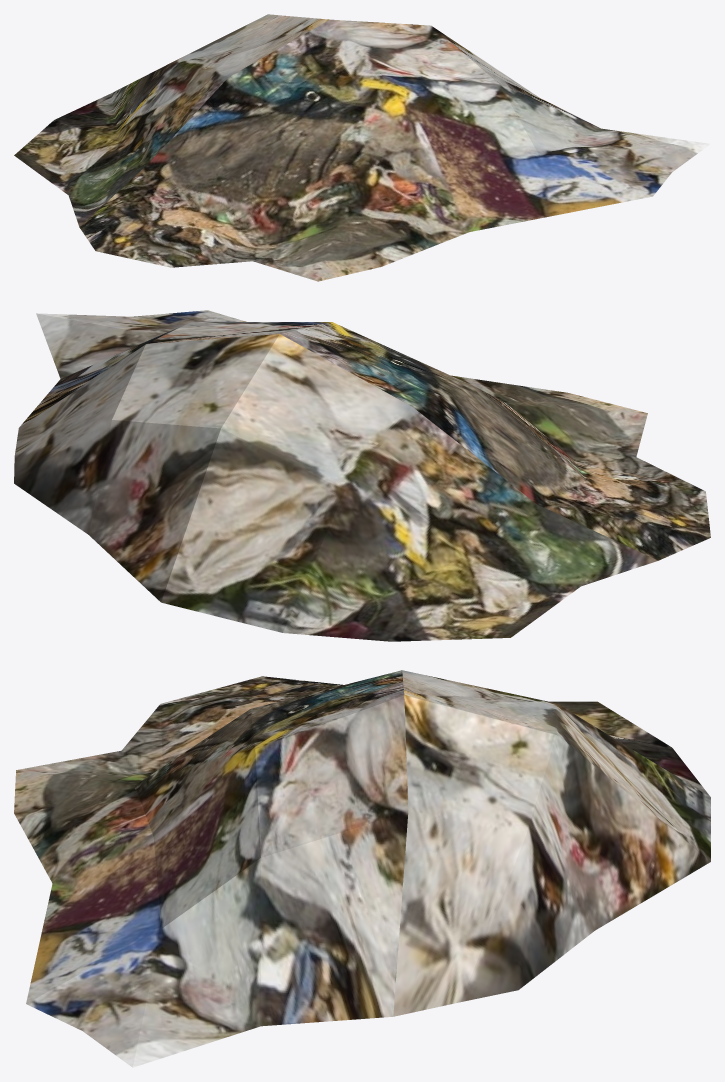
File: Trash1.fbx
3 views of the same model, one above another, from view 1: azimuth 30°, elevation 25°; view 2: azimuth 150°, elevation 25°; view 3: azimuth 270°, elevation 25° (orthographic). The views are drawn at different scales.
Visible parts, largest first — view 1: trash2; view 2: trash2; view 3: trash2.
Part boxes in pixels (bbox=[...]): trash2: bbox=[14, 14, 710, 281]; trash2: bbox=[14, 310, 710, 641]; trash2: bbox=[14, 670, 710, 1067].
Bounding box in the file's own units: 2.41 × 1.8 × 0.5143.
